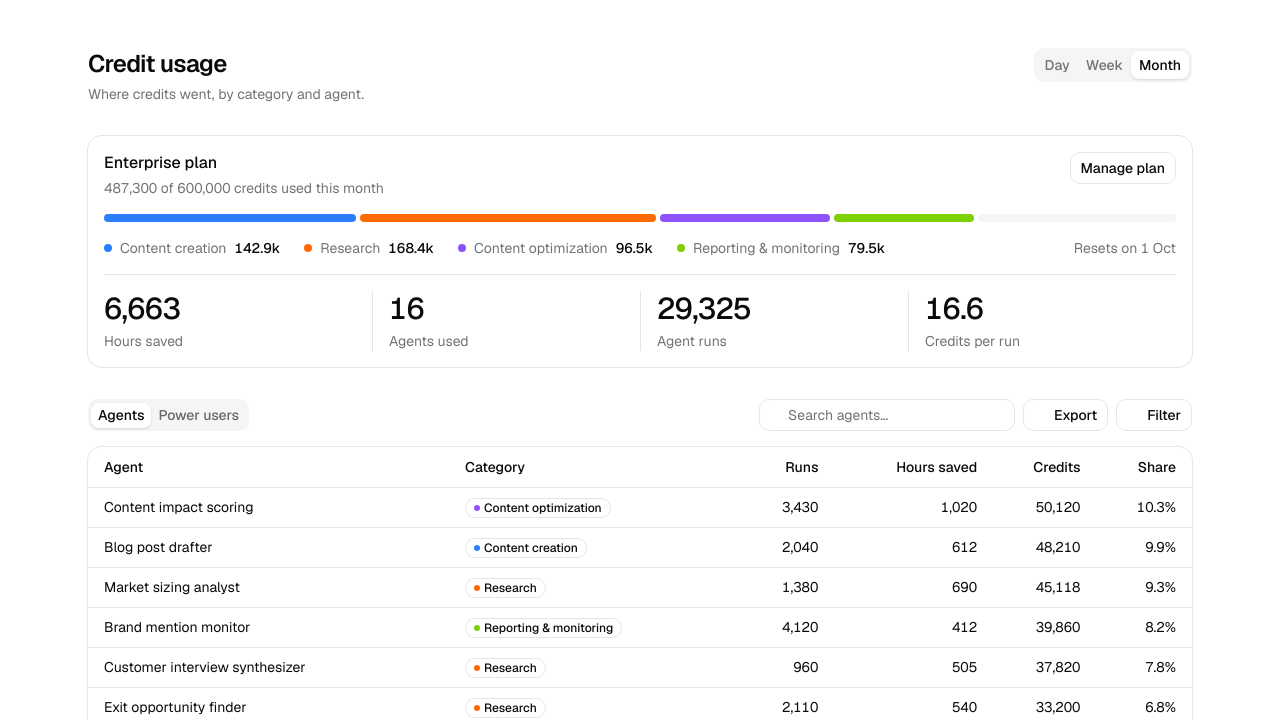
Test: CreditUsage › switches period and rescopes the summary
Step 1. Click the button "Week" → (1104, 65), box [1078,51,1131,79]
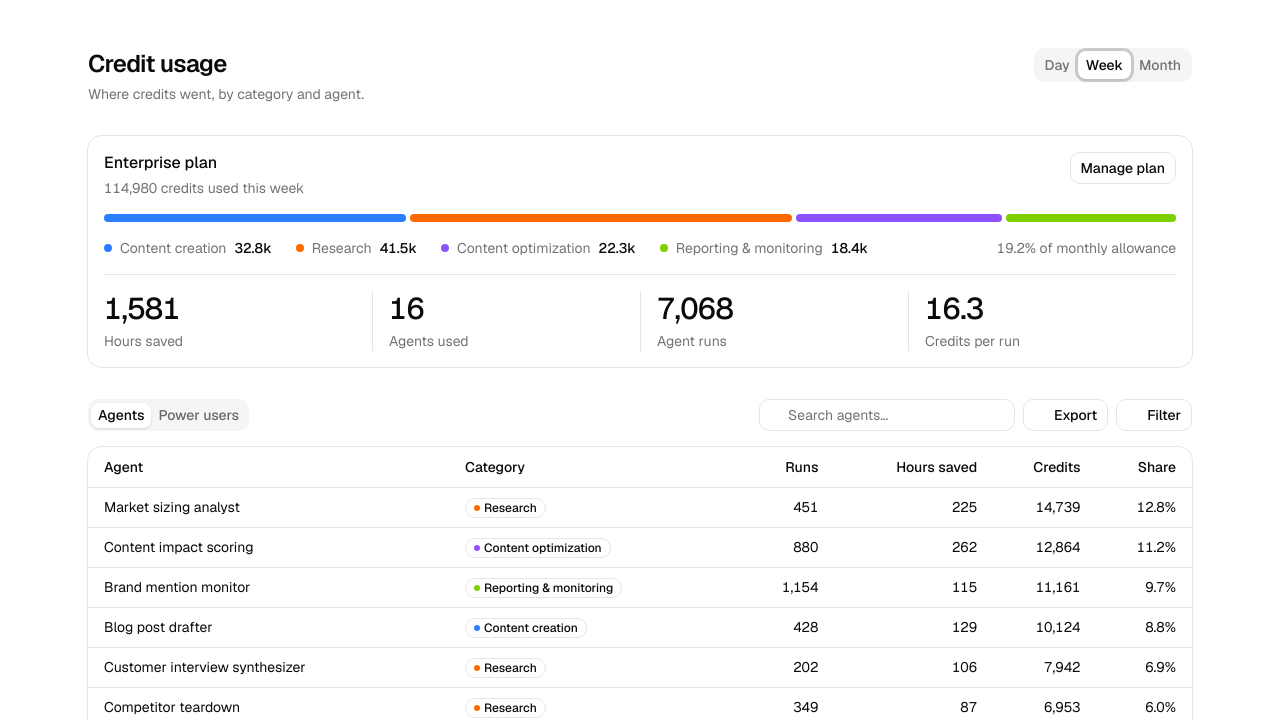
Now the text "114,980 credits used this week" is shown, box [104,179,304,197]
Now the text "19.2% of monthly allowance" is shown, box [997,238,1176,258]
Now the text "Resets on 1 Oct" is gone
